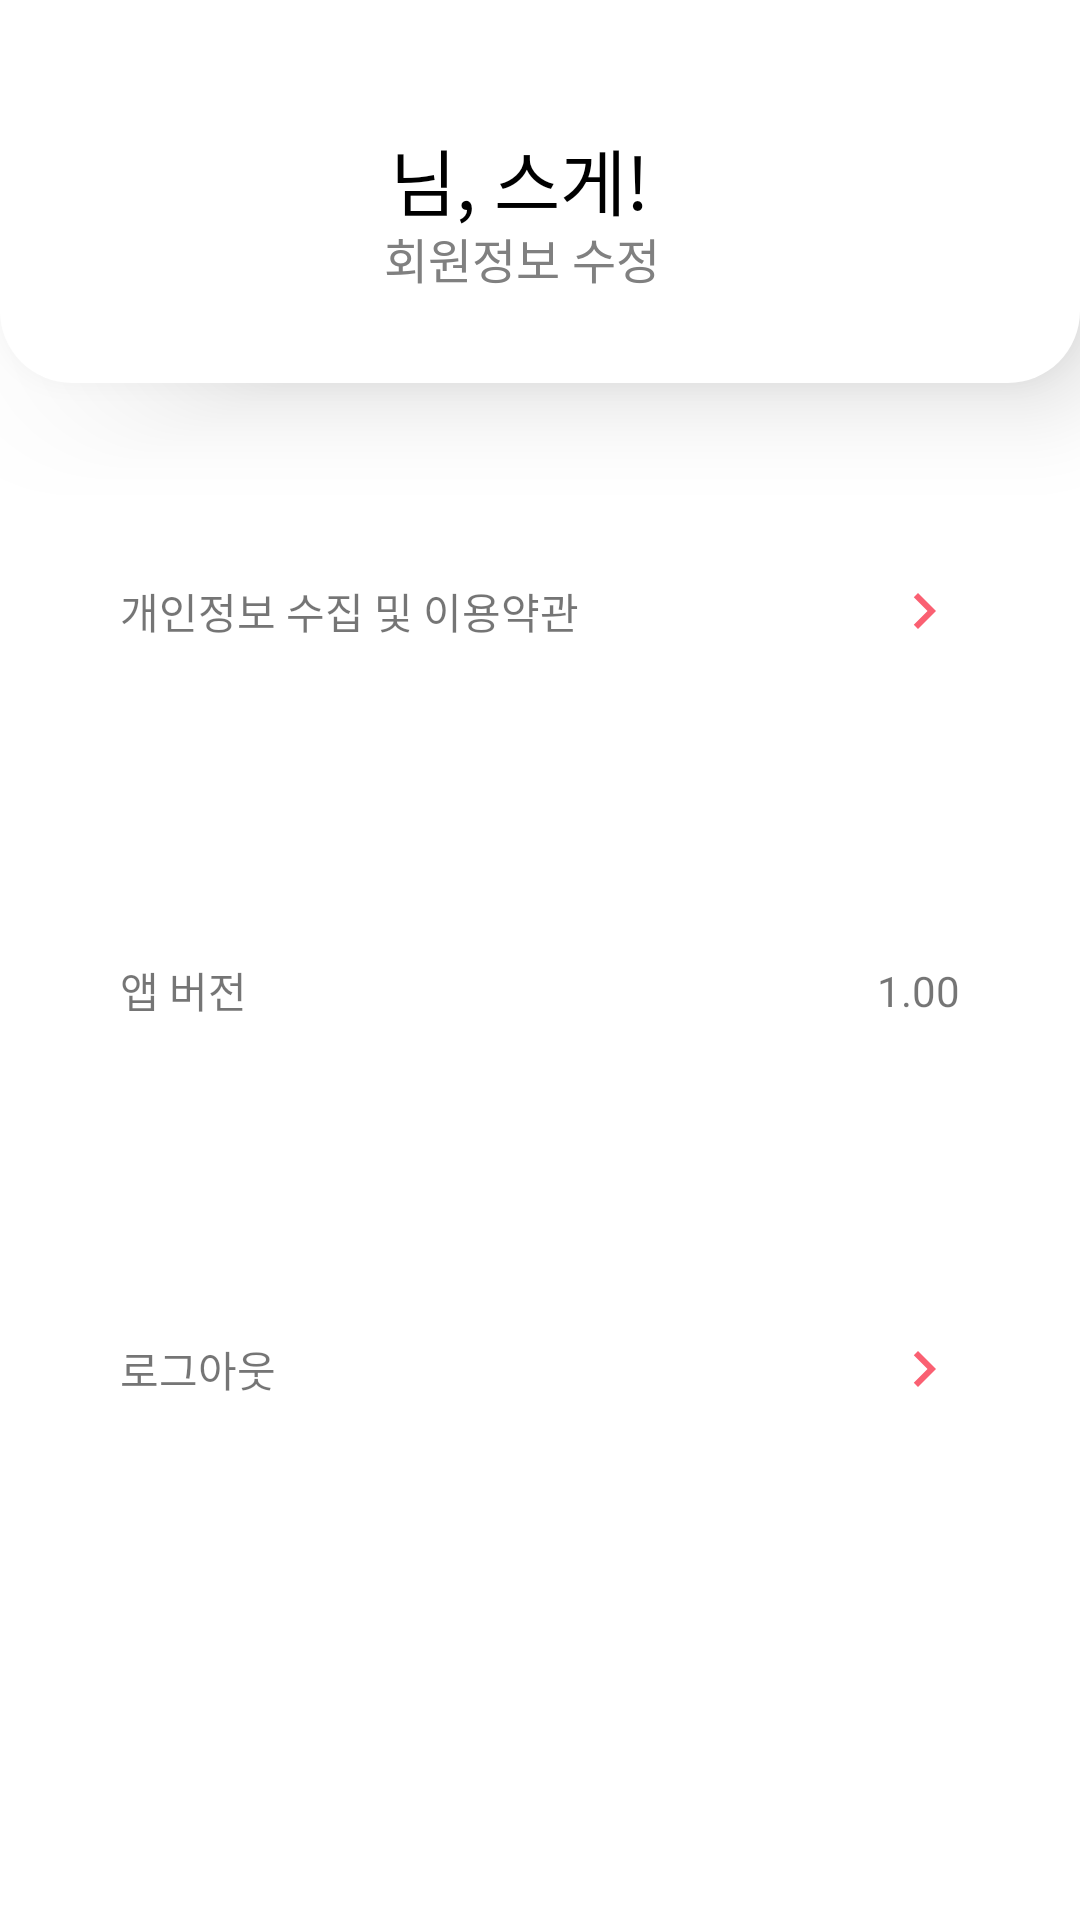

Icon click points for this 1080w x 1920h phone screenshot, format point (x, y):
chevron right: point (925, 611), point (925, 1369)
